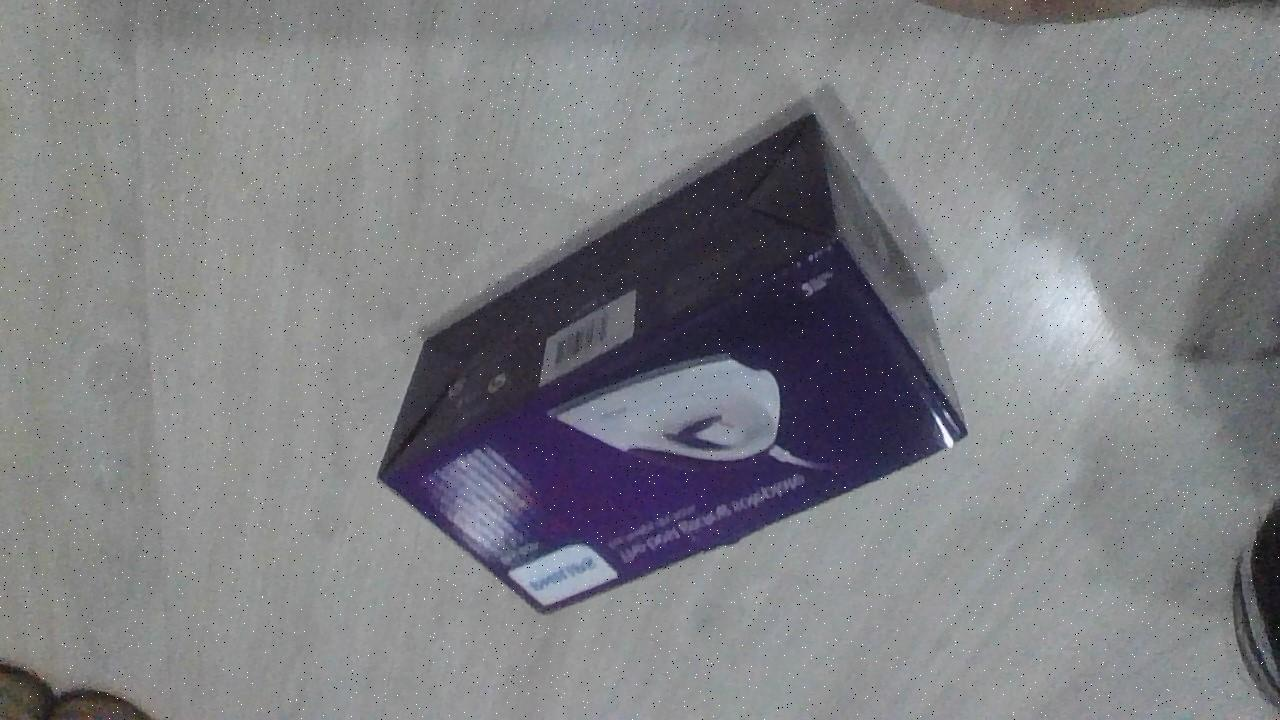IRON: (373, 106, 970, 620)
